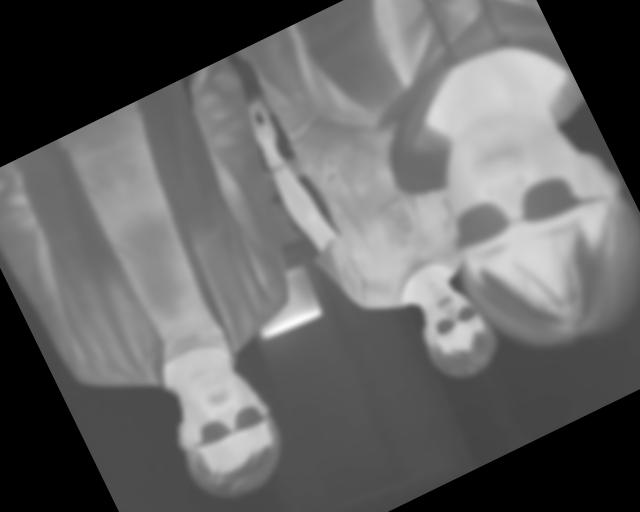face: (402, 76, 640, 379), (150, 349, 301, 512), (400, 272, 507, 392)
